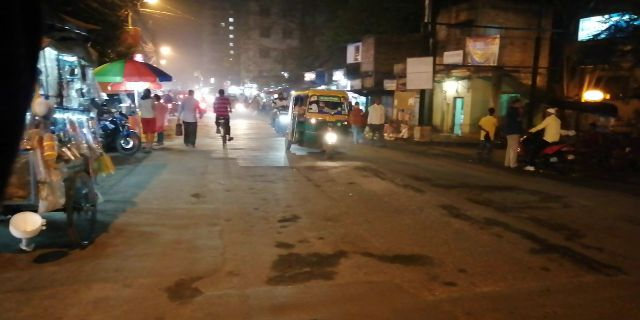Autorickshaw: (291, 89, 356, 157)
Cycle: (207, 86, 238, 149)
